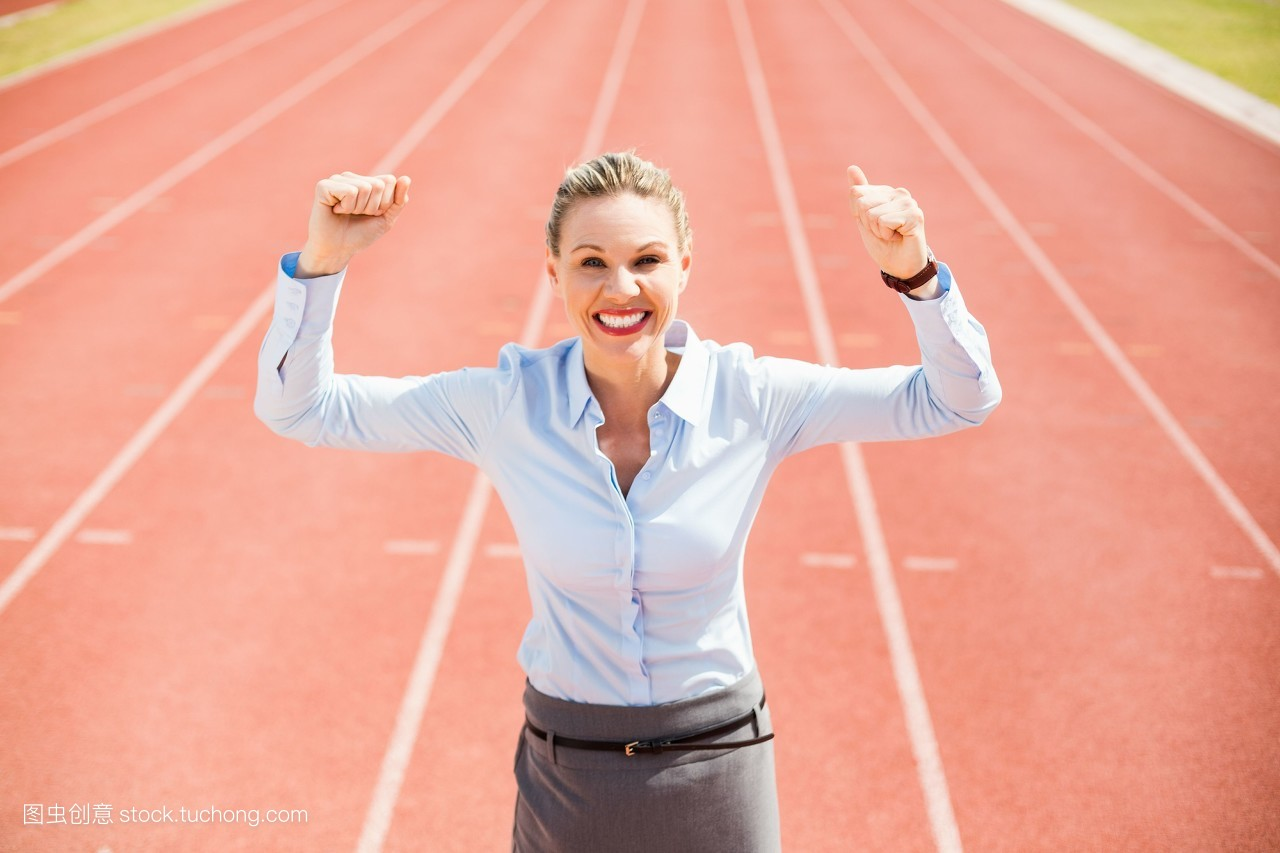handsup: (247, 132, 1010, 840)
